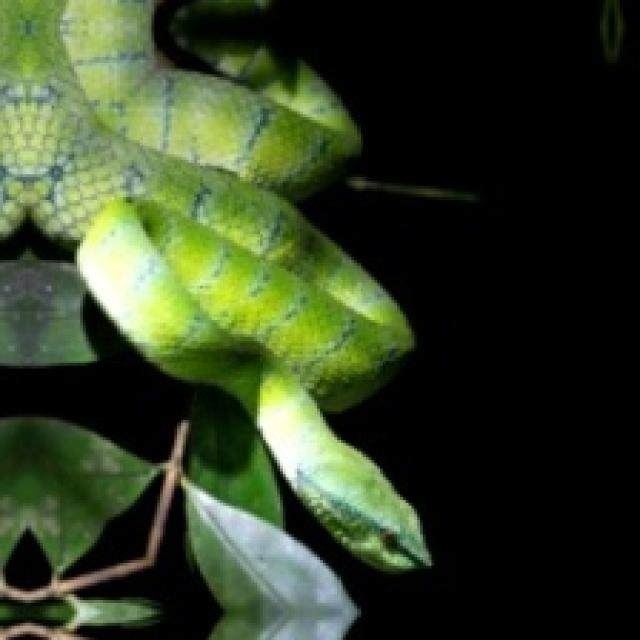north ph temple pitviper: (0, 0, 429, 569)
